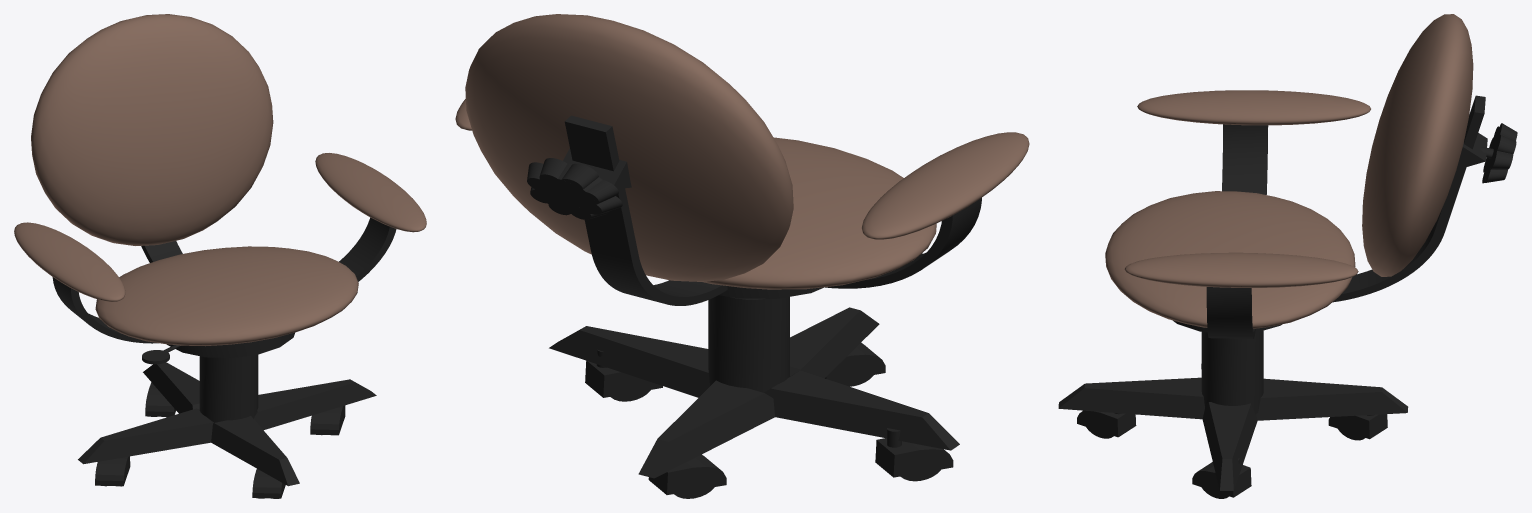
File: sh-contrib-office-chair2.glb
3 views of the same model, side by side, from view 1: azimuth 30°, elevation 25°; view 2: azimuth 150°, elevation 25°; view 3: azimuth 270°, elevation 25° (orthographic). The views are drawn at different scales.
Parts seen in each view (by area): view 1: chair_cus3_42_42, caster11_1_1; view 2: chair_cus3_42_42, caster11_1_1; view 3: chair_cus3_42_42, caster11_1_1.
Part boxes in pixels (bbox=[...]): chair_cus3_42_42: bbox=[14, 14, 426, 346]; caster11_1_1: bbox=[52, 217, 396, 498]; chair_cus3_42_42: bbox=[455, 14, 1029, 289]; caster11_1_1: bbox=[527, 115, 981, 498]; chair_cus3_42_42: bbox=[1105, 14, 1473, 328]; caster11_1_1: bbox=[1058, 95, 1517, 498].
Size of the model in its own units: 1 by 1 by 1.
